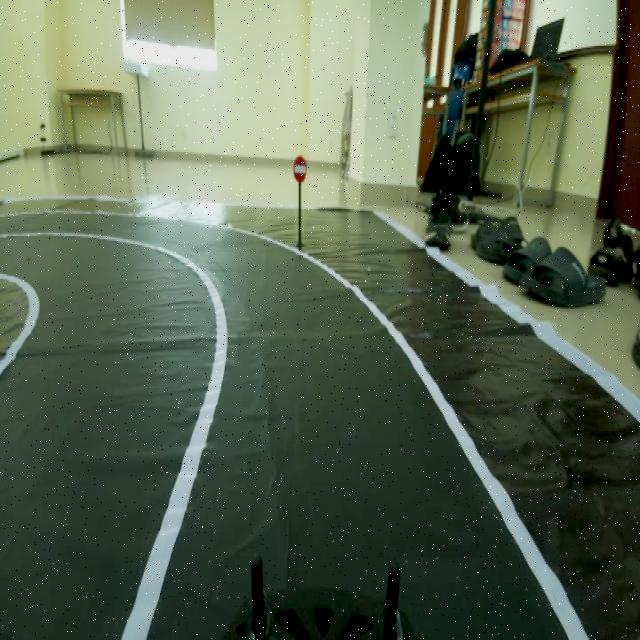no_entry: (290, 149, 310, 187)
